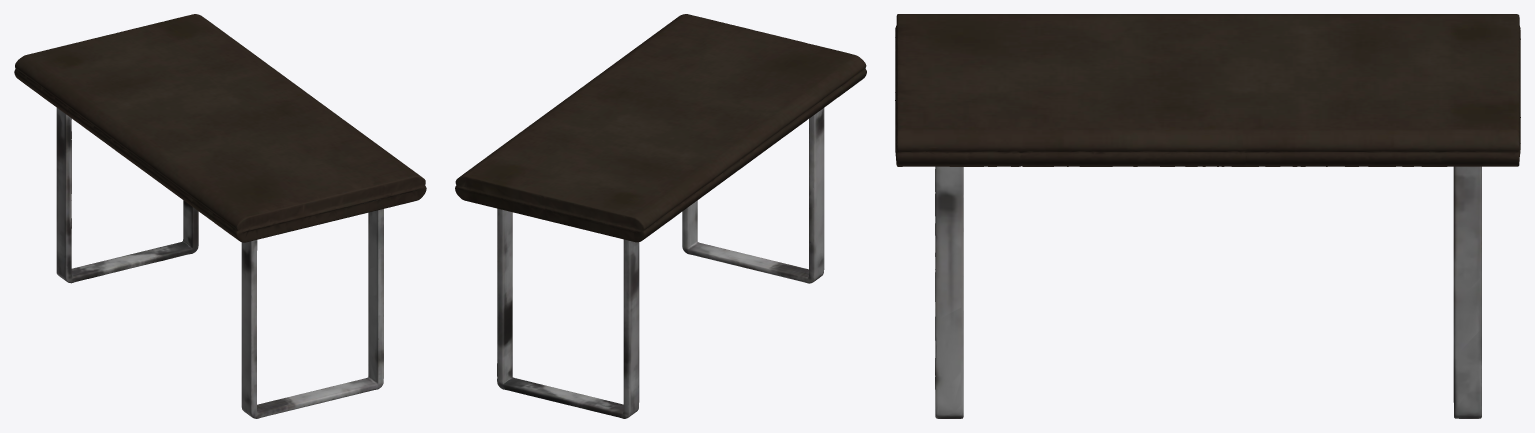
File: dark-wood-writing-desk.glb
The picture shows the model from 3 angles, left to right: view 1: azimuth 30°, elevation 25°; view 2: azimuth 150°, elevation 25°; view 3: azimuth 270°, elevation 25°; orthographic projection. The views are drawn at different scales.
Visible parts, largest first — view 1: world; view 2: world; view 3: world.
Boxes of the visible parts, left/top/right/bottom form: world: left=14, top=14, right=426, bottom=418; world: left=455, top=14, right=866, bottom=418; world: left=895, top=14, right=1520, bottom=418.
Bounding box in the file's own units: 0.4943 × 0.5397 × 1.
Materials: 1 (1 with a texture image).
